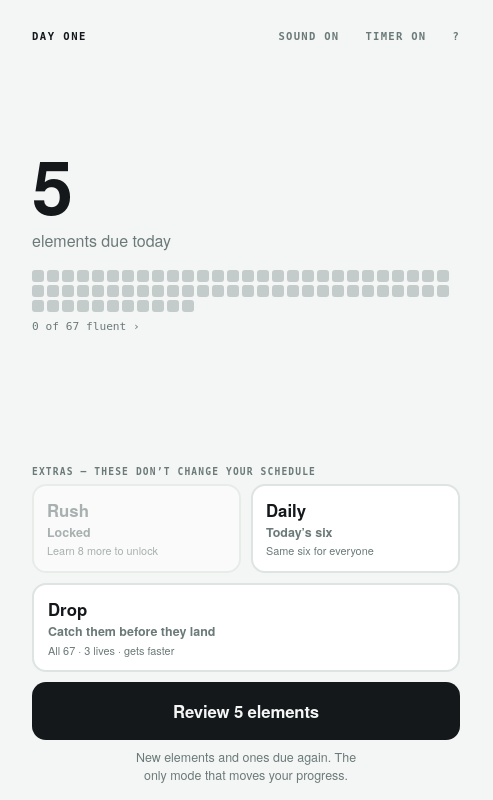
Test: the answer reveal after a miss › does not hold on a correct tap
What coordinates should you click on to do the following:
click the button "Drop"
I would click on:
 (68, 609)
Its box is x1=32 y1=583 x2=460 y2=672.
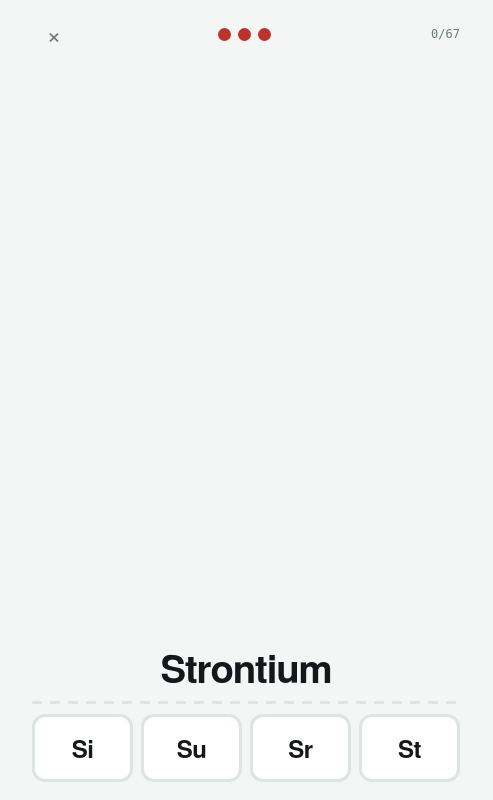
What coordinates should you click on to do the following:
click the button "Sr"
I would click on:
 (300, 748)
Its box is x1=250 y1=714 x2=351 y2=782.
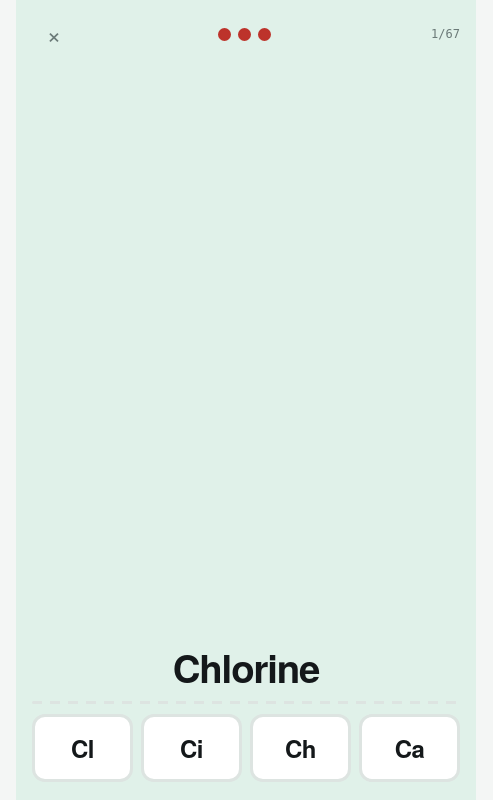
Now the text "1/67" is shown, box x1=431 y1=27 x2=460 y2=41
